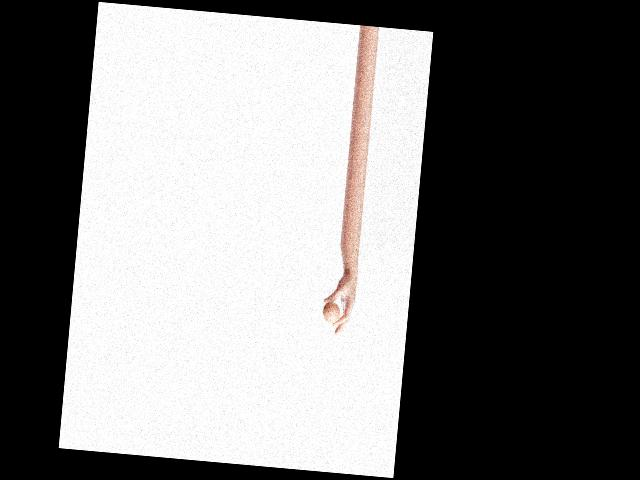egg: (321, 300, 340, 323)
